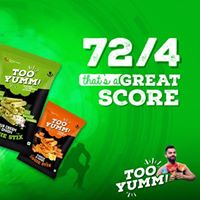plastic: (1, 51, 61, 149), (24, 113, 84, 162)
tooyumm: (116, 164, 171, 191), (4, 63, 45, 88), (46, 114, 72, 136)
wrapper: (1, 46, 36, 153), (31, 118, 81, 169)
